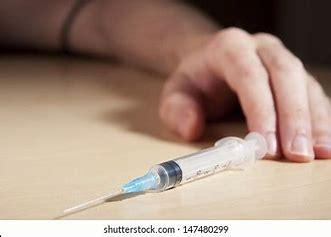Syringe: (57, 128, 271, 216)
